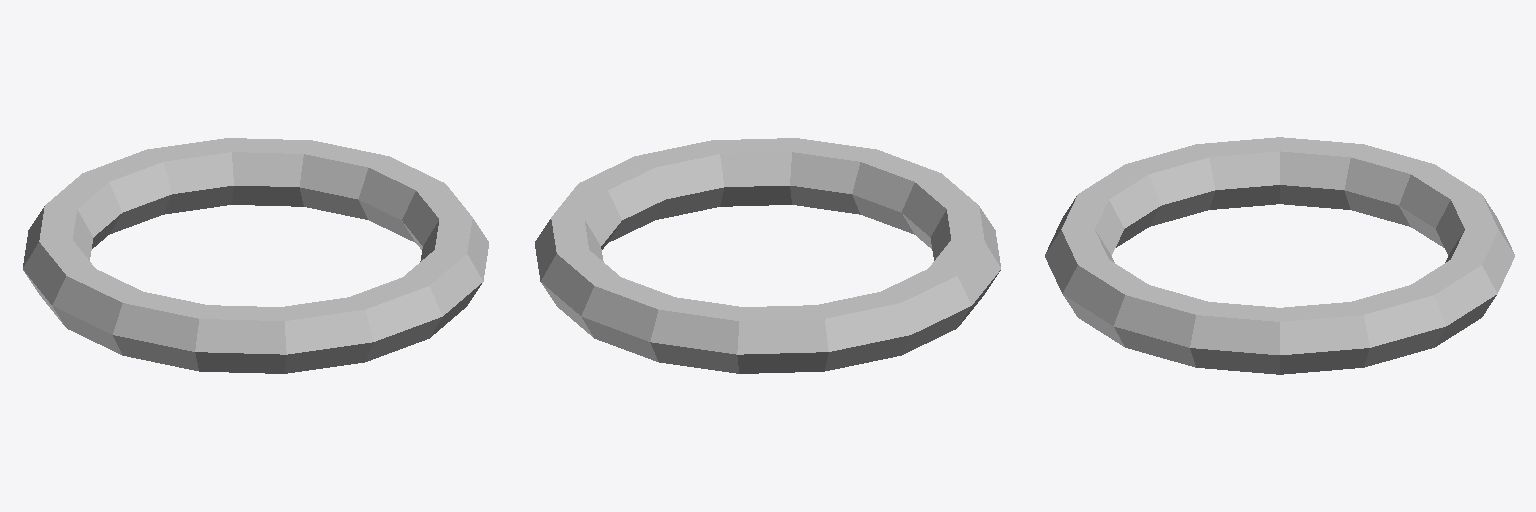
The model's file is Bumper Ring.obj.
3 views of the same model, side by side, from view 1: azimuth 30°, elevation 25°; view 2: azimuth 150°, elevation 25°; view 3: azimuth 270°, elevation 25° (orthographic).
Visible parts, largest first — view 1: Torus; view 2: Torus; view 3: Torus.
Boxes of the visible parts, x1,y1,x2,y2 form: Torus: [23, 138, 488, 373]; Torus: [535, 138, 1000, 373]; Torus: [1045, 137, 1514, 374].
Size of the model in its own units: 1.75 by 0.2165 by 1.75.